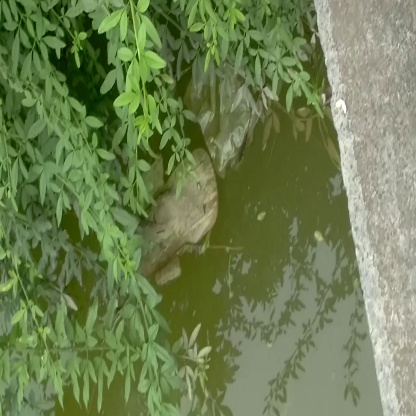plastic-bag: (188, 56, 261, 169)
